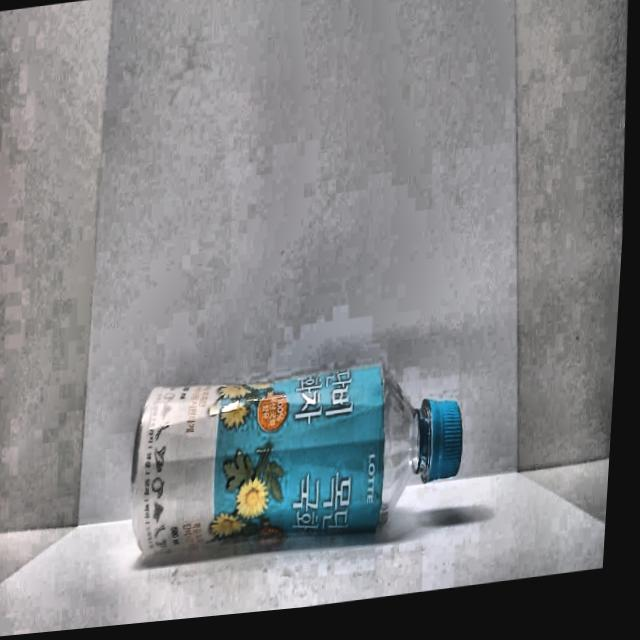Bottles: (116, 304, 503, 579)
